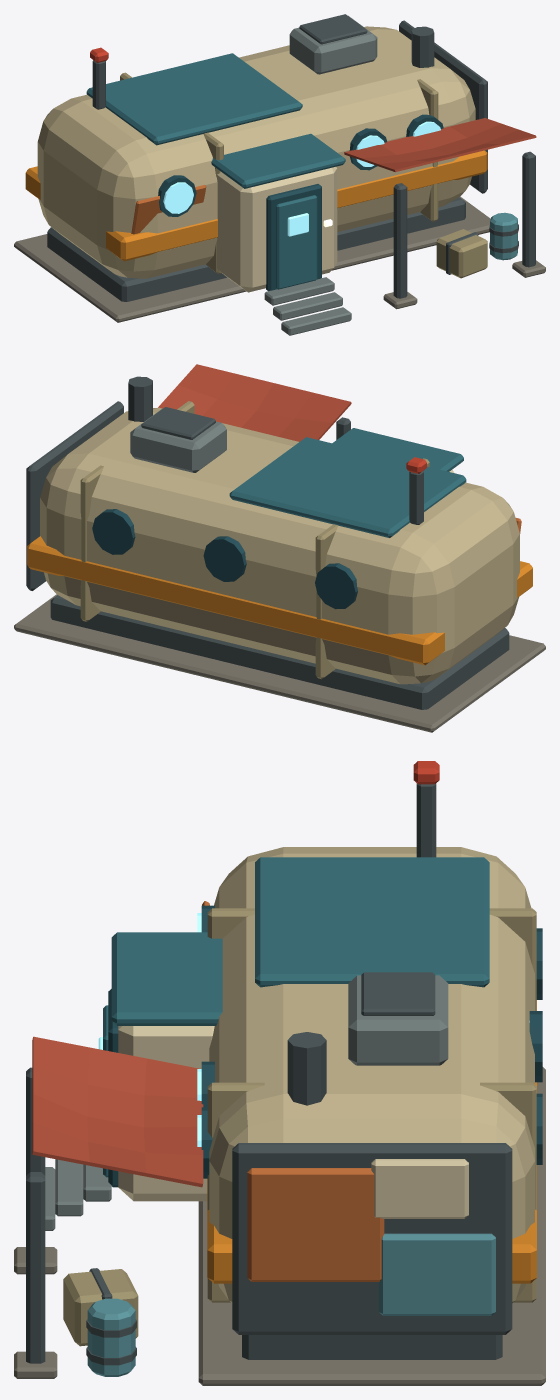
Rendered from wb_hull_hab_long.glb.
The picture shows the model from 3 angles, top to bottom: view 1: azimuth 30°, elevation 25°; view 2: azimuth 150°, elevation 25°; view 3: azimuth 270°, elevation 25°; orthographic projection. The views are drawn at different scales.
Parts seen in each view (by area): view 1: wb_hull_hab_long; view 2: wb_hull_hab_long; view 3: wb_hull_hab_long.
Boxes of the visible parts, <box> form: wb_hull_hab_long: <box>14,14,545,335</box>; wb_hull_hab_long: <box>14,364,545,732</box>; wb_hull_hab_long: <box>14,761,545,1385</box>.
Size of the model in its own units: 3.43 by 1.82 by 2.45.
